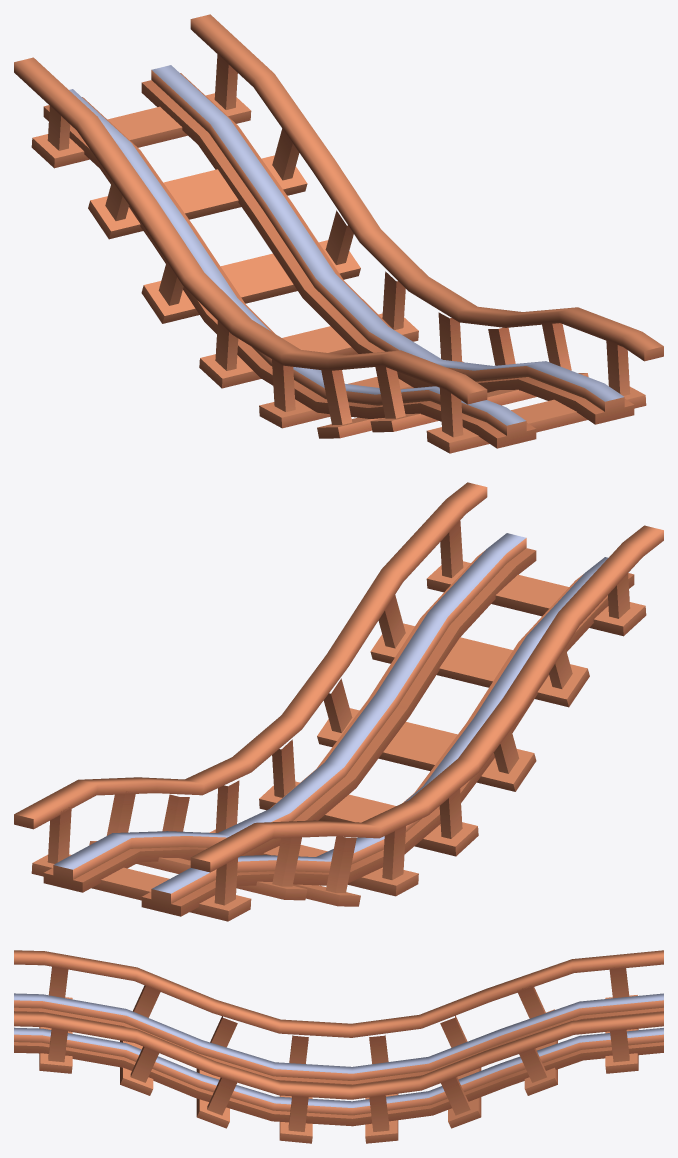
File: kenney-coaster-coaster-wood-straight-bump-down.glb
3 renders of one model, top to bottom at view 1: azimuth 30°, elevation 25°; view 2: azimuth 150°, elevation 25°; view 3: azimuth 270°, elevation 25°, orthographic. The views are drawn at different scales.
Parts seen in each view (by area): view 1: coaster-wood-straight-bump-down; view 2: coaster-wood-straight-bump-down; view 3: coaster-wood-straight-bump-down.
Part boxes in pixels (x1,y1,x2,y2): coaster-wood-straight-bump-down: (14, 14, 663, 453); coaster-wood-straight-bump-down: (14, 482, 663, 921); coaster-wood-straight-bump-down: (14, 950, 663, 1143).
Bounding box in the file's own units: 1 × 0.8472 × 4.
Materials: 1 (1 with a texture image).
